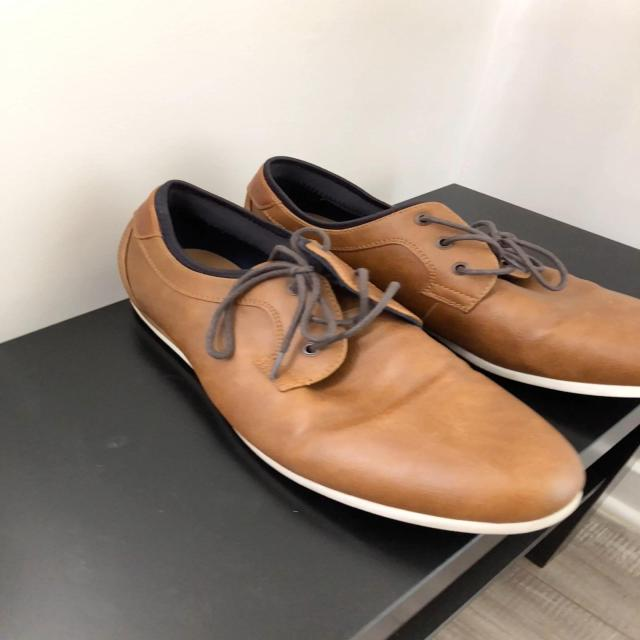shoe: (116, 183, 584, 524), (244, 156, 640, 398)
